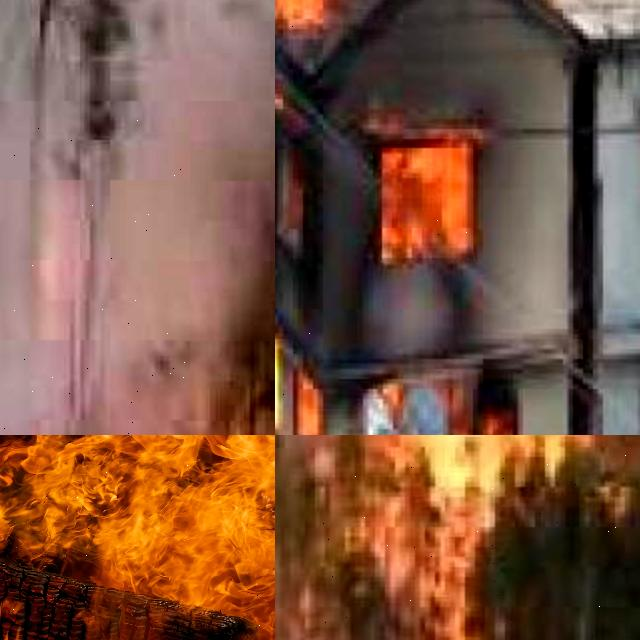fire: (315, 435, 635, 640), (0, 435, 275, 640), (380, 141, 472, 262), (275, 332, 323, 435), (275, 0, 336, 55)
smoke: (0, 176, 180, 435)
